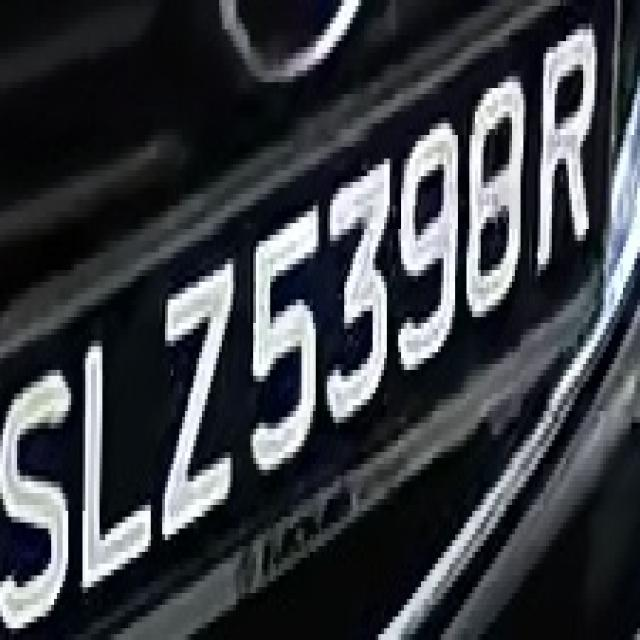3: (318, 152, 396, 428)
5: (245, 206, 332, 493)
8: (458, 70, 538, 323)
9: (389, 112, 464, 405)
L: (71, 311, 162, 599)
R: (532, 6, 600, 288)
S: (3, 364, 71, 640)
Z: (151, 270, 239, 546)
